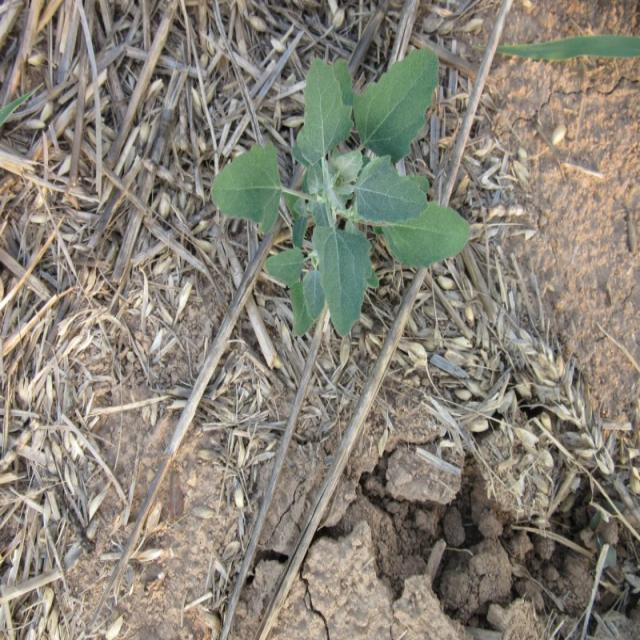ca: (212, 48, 470, 336)
